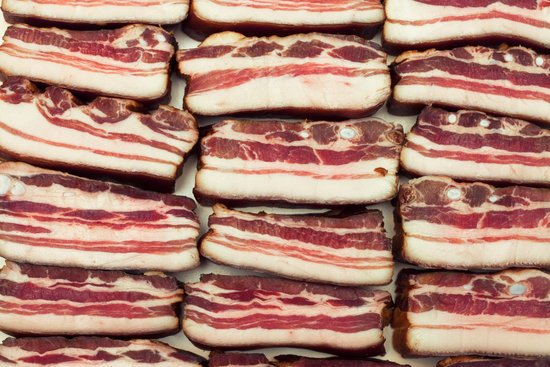bacon: (30, 50, 520, 343)
